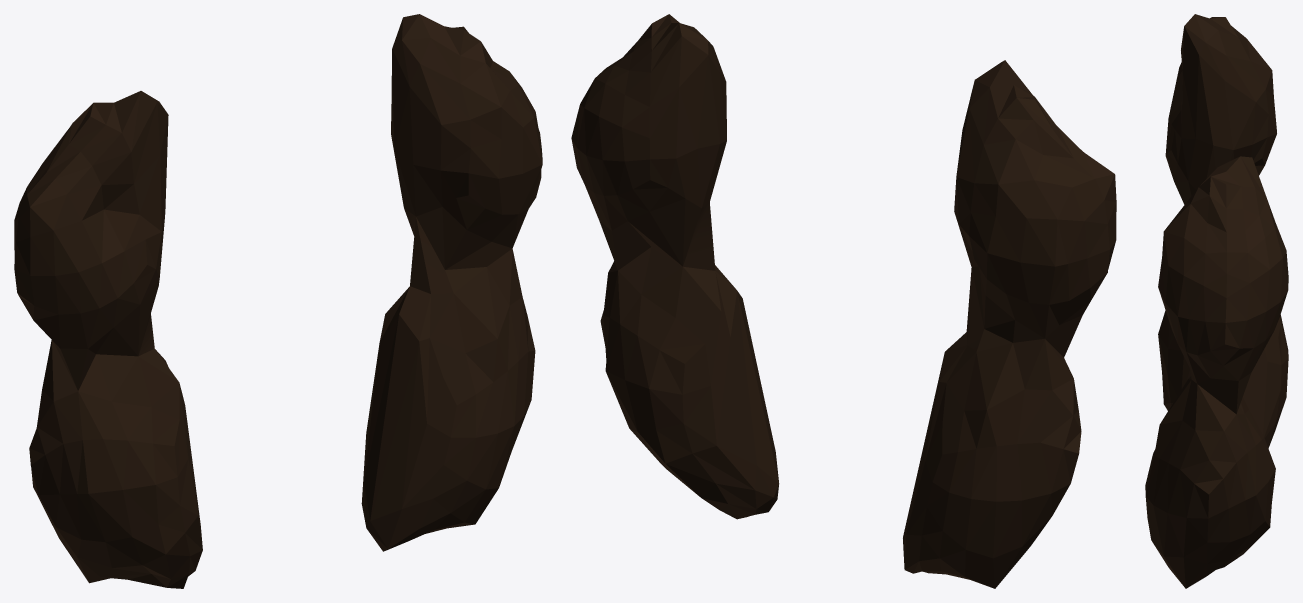
File: Barriers_GiantTurds.FBX
3 views of the same model, side by side, from view 1: azimuth 30°, elevation 25°; view 2: azimuth 150°, elevation 25°; view 3: azimuth 270°, elevation 25° (orthographic). The views are drawn at different scales.
Parts seen in each view (by area): view 1: GeoSphere002, GeoSphere003; view 2: GeoSphere003, GeoSphere002; view 3: GeoSphere002, GeoSphere003.
Part boxes in pixels (left/top/right/bottom): GeoSphere002: left=361, top=14, right=542, bottom=551; GeoSphere003: left=14, top=91, right=202, bottom=588; GeoSphere003: left=903, top=60, right=1116, bottom=588; GeoSphere002: left=571, top=14, right=779, bottom=519; GeoSphere002: left=1145, top=156, right=1288, bottom=588; GeoSphere003: left=1158, top=14, right=1288, bottom=448.
Bounding box in the file's own units: 3064 × 2853 × 830.
